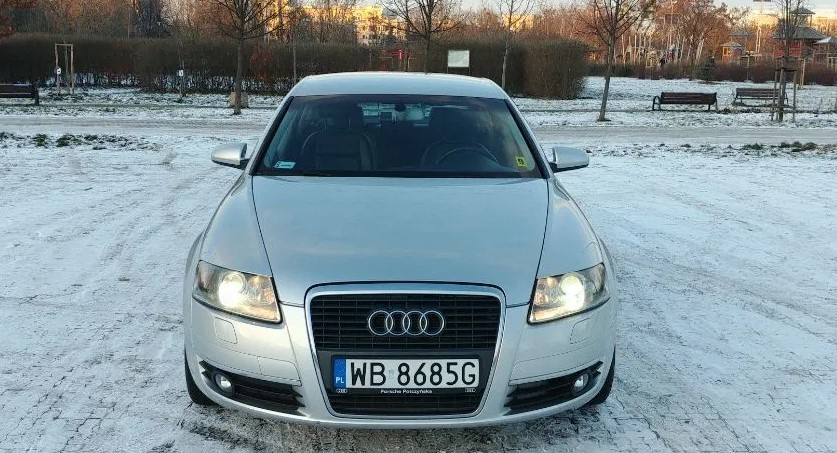number_plate: (328, 350, 486, 399)
